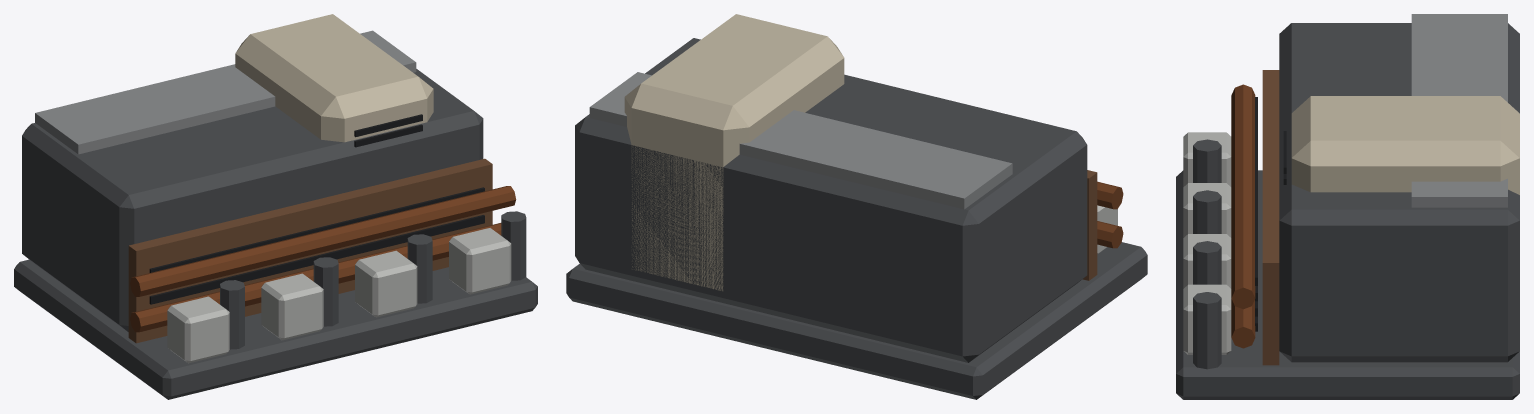
File: cargo-bay-wall-s.glb
The picture shows the model from 3 angles, left to right: view 1: azimuth 30°, elevation 25°; view 2: azimuth 150°, elevation 25°; view 3: azimuth 270°, elevation 25°; orthographic projection. The views are drawn at different scales.
Visible parts, largest first — view 1: body; view 2: body; view 3: body.
Boxes of the visible parts, x1,y1,x2,y2 form: body: (14,14,537,399); body: (566,14,1147,399); body: (1176,14,1519,399).
Size of the model in its own units: 2 by 1.05 by 1.43.
